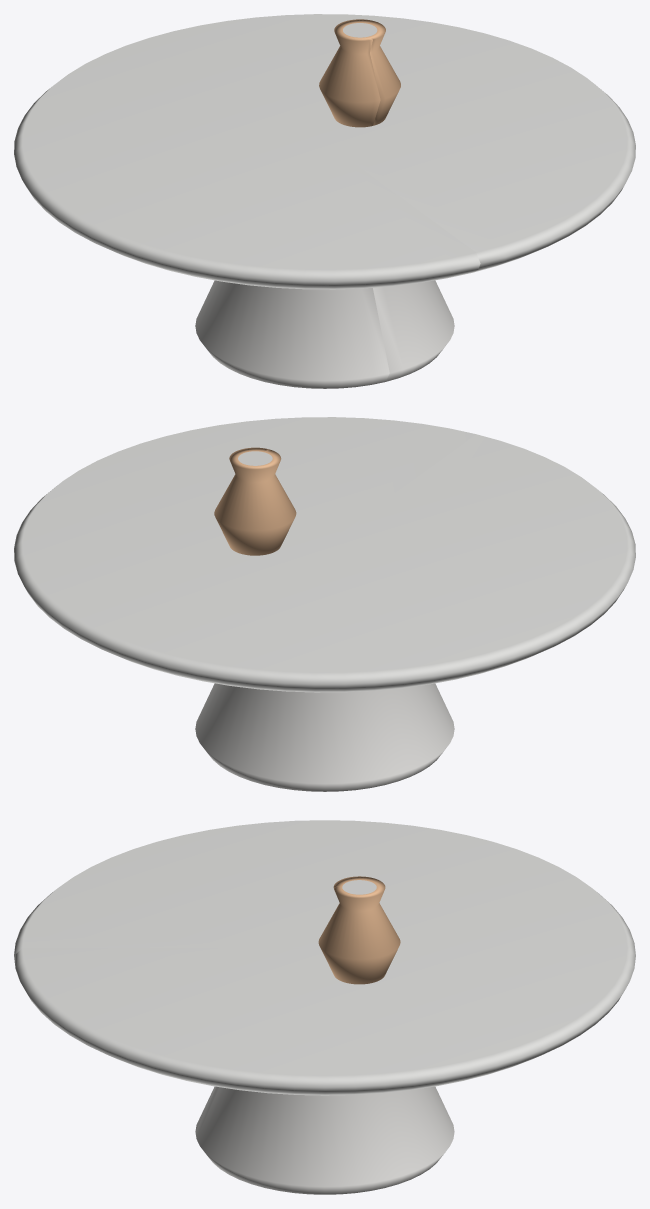
File: table.glb
The picture shows the model from 3 angles, top to bottom: view 1: azimuth 30°, elevation 25°; view 2: azimuth 150°, elevation 25°; view 3: azimuth 270°, elevation 25°; orthographic projection.
Parts seen in each view (by area): view 1: CarraraMarbleTop, MarblePedestalColumn, SculpturalVase; view 2: CarraraMarbleTop, MarblePedestalColumn, SculpturalVase; view 3: CarraraMarbleTop, MarblePedestalColumn, SculpturalVase.
Part boxes in pixels (box(x1,y1,x2,y2)): CarraraMarbleTop: box(14, 14, 635, 289); MarblePedestalColumn: box(195, 280, 454, 388); SculpturalVase: box(319, 19, 400, 127); CarraraMarbleTop: box(14, 417, 635, 692); MarblePedestalColumn: box(195, 683, 454, 791); SculpturalVase: box(214, 447, 296, 555); CarraraMarbleTop: box(14, 820, 635, 1095); MarblePedestalColumn: box(195, 1086, 454, 1194); SculpturalVase: box(318, 876, 400, 984).
Size of the model in its own units: 1.44 by 0.72 by 1.44.
